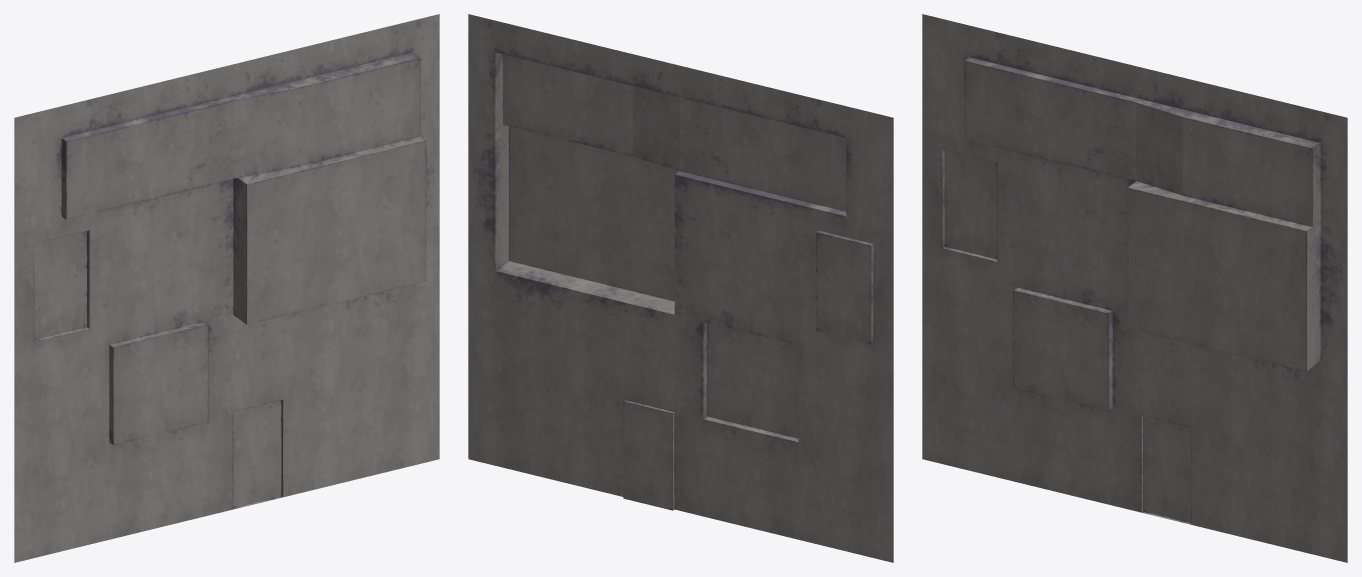
The model's file is ParedeEsquisita.fbx.
The picture shows the model from 3 angles, left to right: view 1: azimuth 30°, elevation 25°; view 2: azimuth 150°, elevation 25°; view 3: azimuth 330°, elevation 25°; orthographic projection.
Visible parts, largest first — view 1: ParedeEsquisita; view 2: ParedeEsquisita; view 3: ParedeEsquisita.
Part boxes in pixels (x1,y1,x2,y2): ParedeEsquisita: (14,14,439,562); ParedeEsquisita: (468,14,893,562); ParedeEsquisita: (922,14,1347,562).
Size of the model in its own units: 1000 by 1000 by 65.56.
